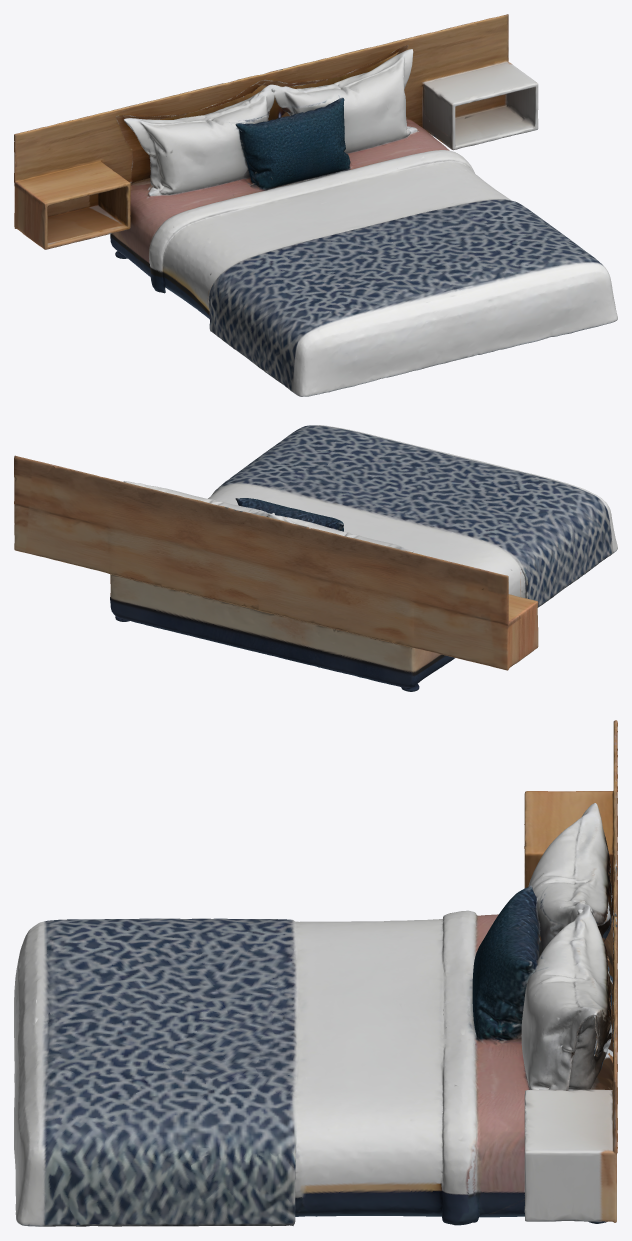
File: habCaminoSal.glb
3 renders of one model, top to bottom at view 1: azimuth 30°, elevation 25°; view 2: azimuth 150°, elevation 25°; view 3: azimuth 270°, elevation 25°, orthographic. The views are drawn at different scales.
Size of the model in its own units: 1.9 by 0.5243 by 1.34.
Materials: 1 (1 with a texture image).
